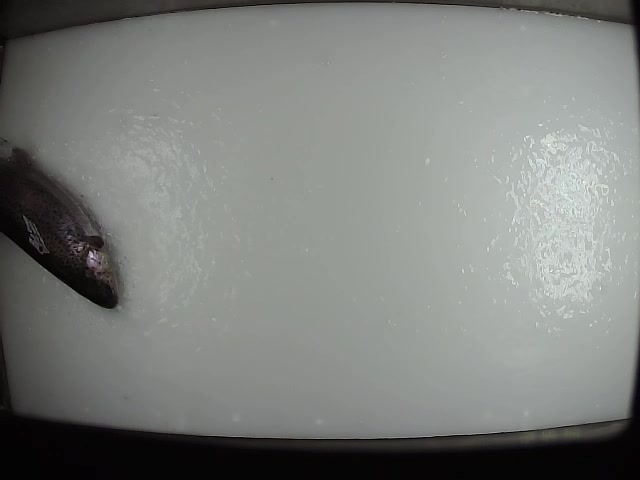fish: (1, 136, 121, 311)
